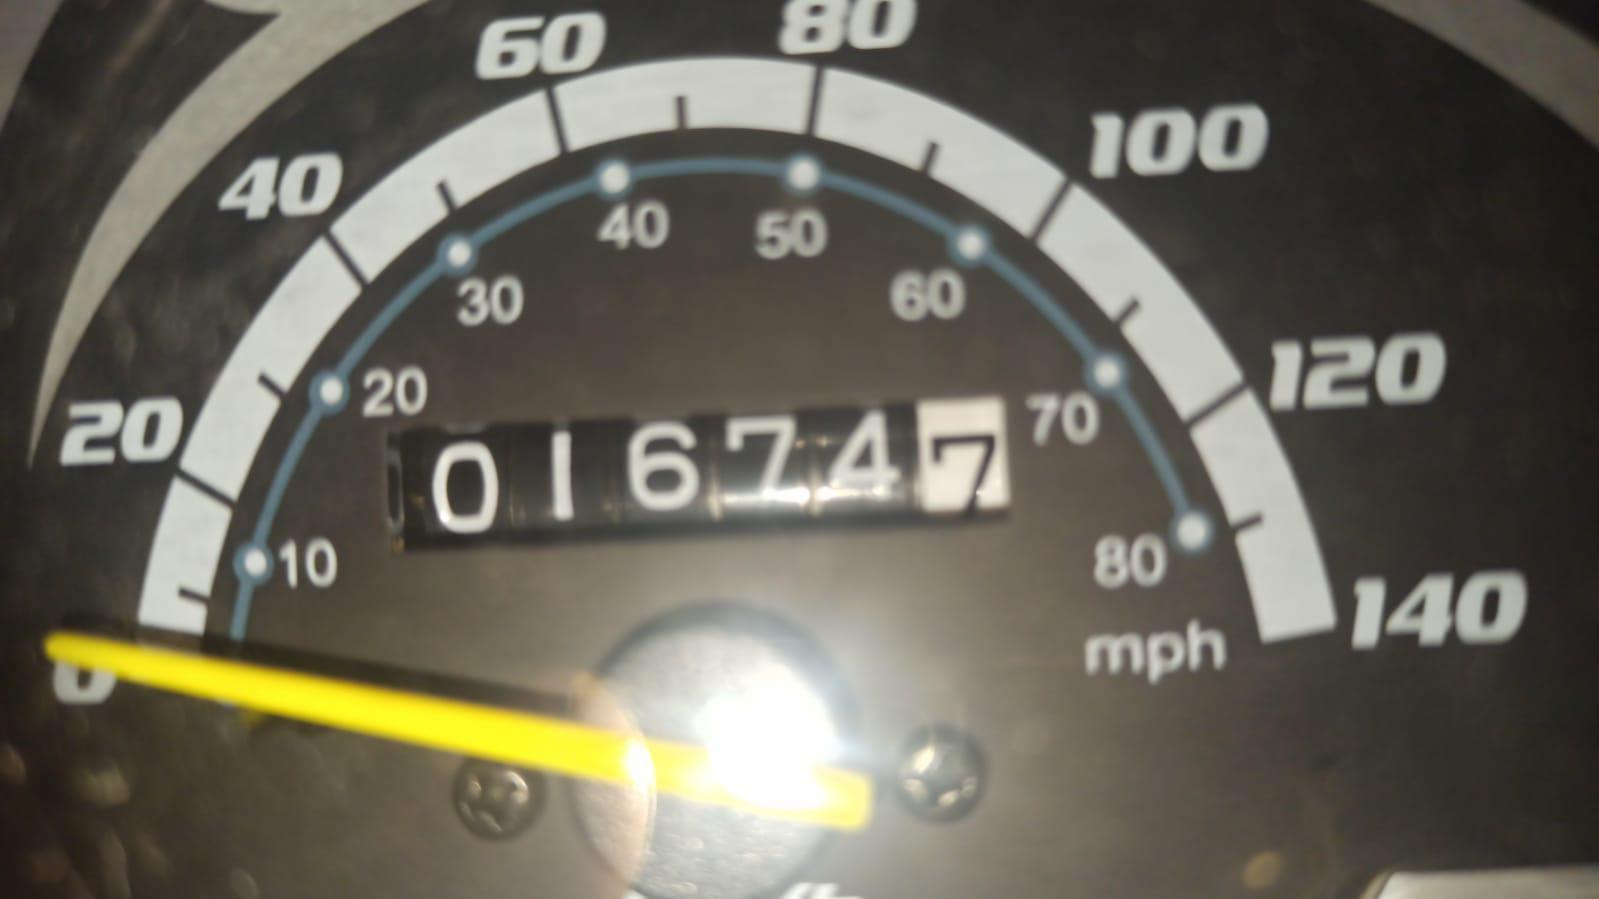0: (416, 427, 507, 540)
1: (530, 412, 588, 533)
4: (818, 402, 908, 522)
6: (620, 408, 706, 524)
7: (722, 411, 801, 519), (927, 422, 999, 535)
odometer: (380, 394, 1025, 561)
